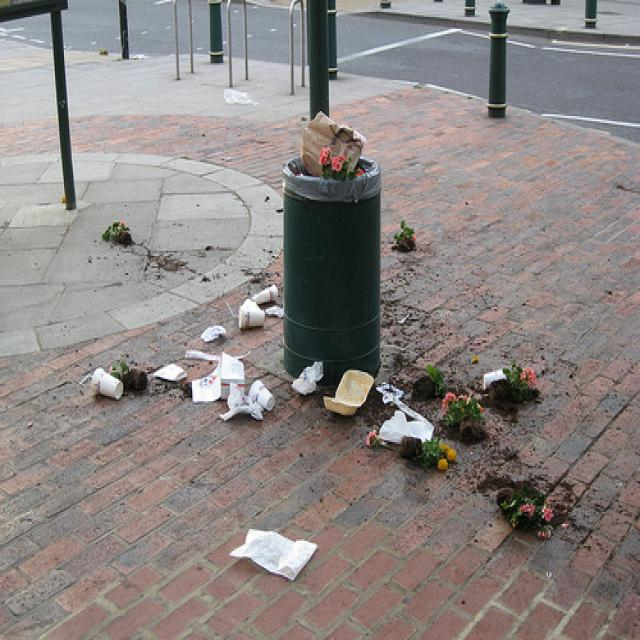trash: (85, 268, 579, 553), (225, 511, 321, 586), (286, 113, 376, 175), (385, 218, 421, 255), (98, 218, 138, 249)
